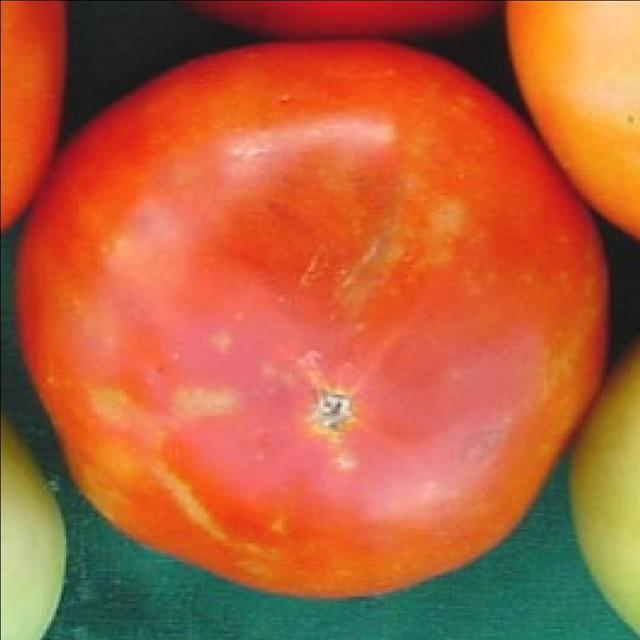Spotted wilt Virus Fruit: (13, 24, 406, 401)
